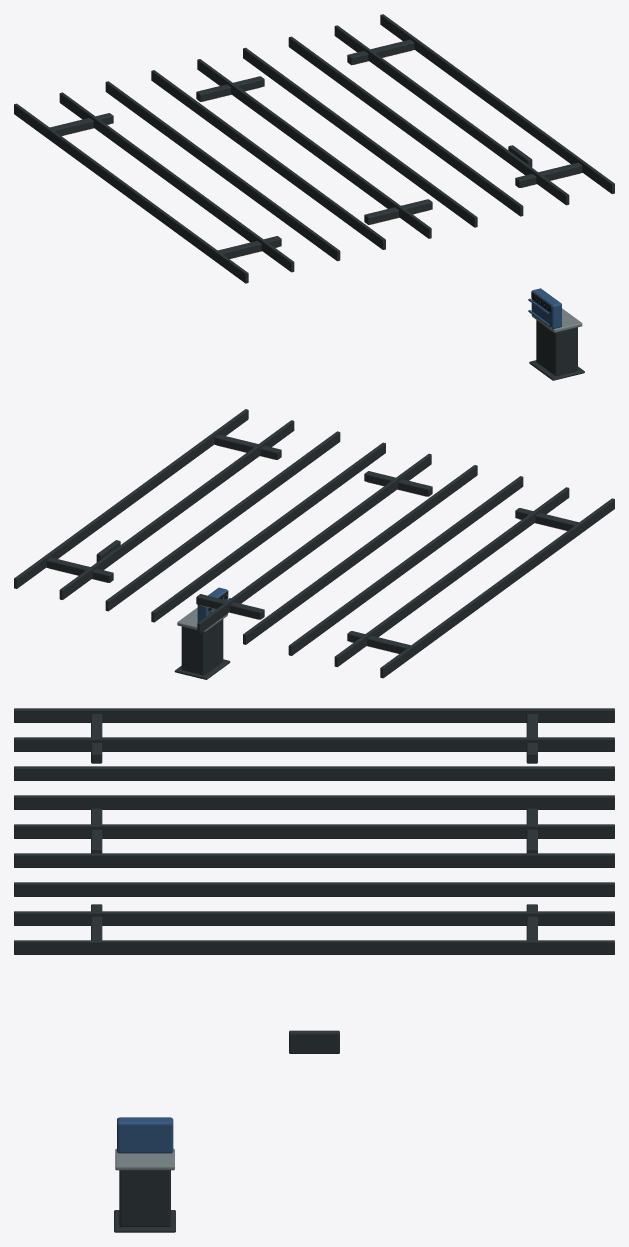
Rendered from SILENT_Room_06_A_Objects_원본_20261020_1820.fbx.
3 renders of one model, top to bottom at view 1: azimuth 30°, elevation 25°; view 2: azimuth 150°, elevation 25°; view 3: azimuth 270°, elevation 25°, orthographic. The views are drawn at different scales.
Parts seen in each view (by area): view 1: Room_06_A_Objects_Merged; view 2: Room_06_A_Objects_Merged; view 3: Room_06_A_Objects_Merged.
Boxes of the visible parts, box(x1,y1,x2,y2) form: Room_06_A_Objects_Merged: box(14, 14, 614, 380); Room_06_A_Objects_Merged: box(14, 409, 614, 679); Room_06_A_Objects_Merged: box(14, 708, 614, 1232).
Size of the model in its own units: 7.3 by 3.91 by 7.45.
